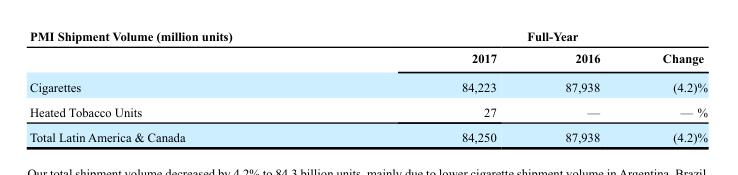table: (28, 29, 706, 144)
table column: (28, 29, 346, 144), (346, 29, 530, 144), (530, 29, 630, 144), (630, 29, 706, 144)
table column header: (28, 29, 706, 72)
table row: (28, 72, 706, 99), (28, 46, 706, 72), (28, 99, 706, 124), (28, 124, 706, 144), (28, 29, 706, 46)
table spanning cell: (28, 29, 346, 72), (346, 29, 706, 46)
